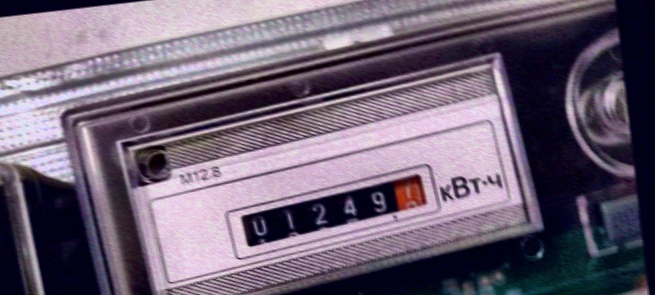0: (246, 209, 268, 237)
1: (278, 205, 295, 232)
2: (307, 199, 330, 227)
4: (338, 190, 359, 219)
7: (397, 175, 415, 201)
9: (367, 187, 388, 213)
screen: (215, 163, 455, 264)
